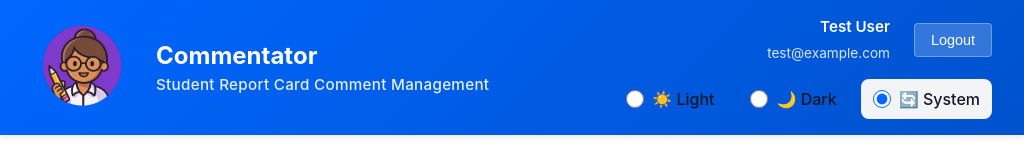
Test: Header › Error Handling › should display error message if logout fails
Step 1. Click the button "Logout" → (953, 40), box [914,23,992,57]
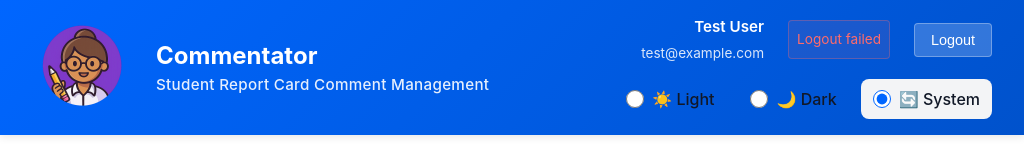
Result: the message "Logout failed" is shown at [788,20,890,59]
